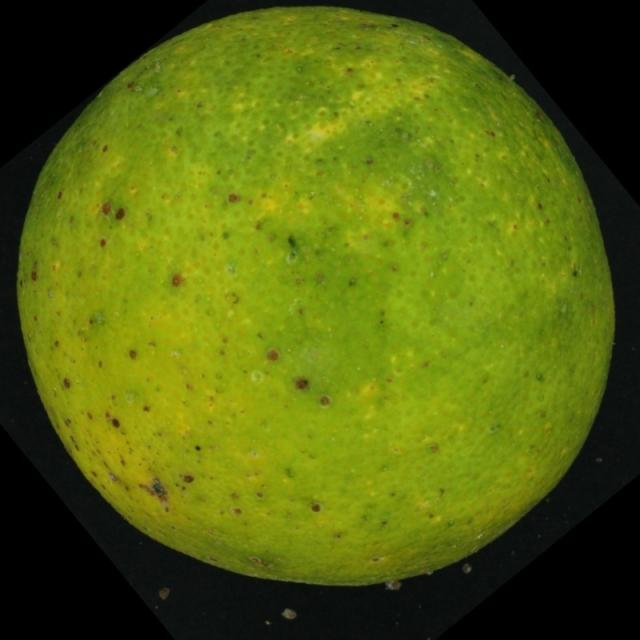grenning: (10, 4, 634, 611)
